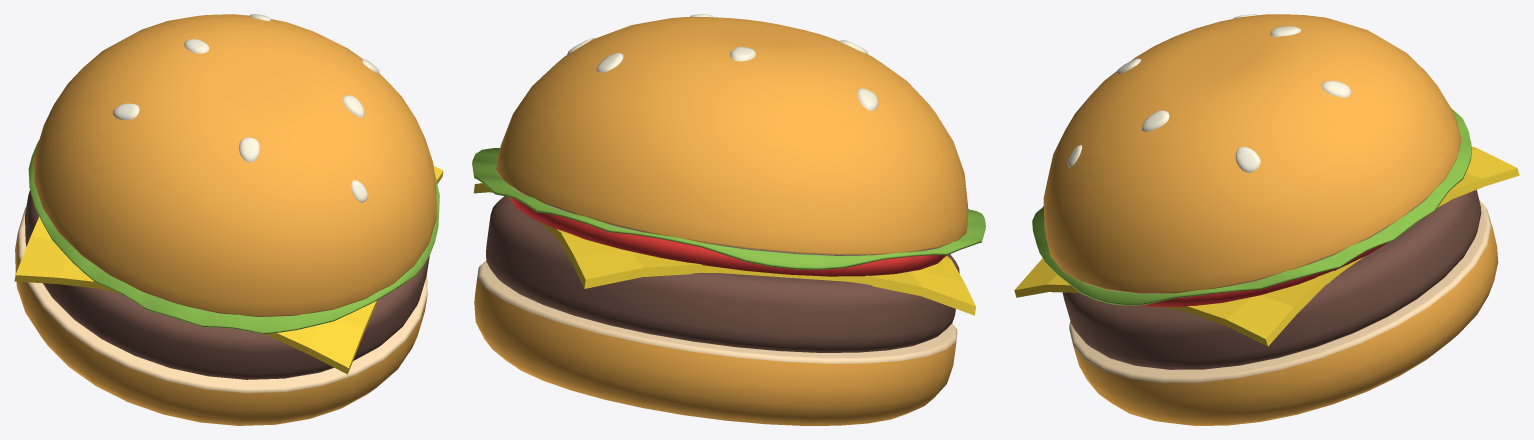
Rendered from hamburger.gltf.
3 renders of one model, left to right at view 1: azimuth 30°, elevation 25°; view 2: azimuth 150°, elevation 25°; view 3: azimuth 270°, elevation 25°, orthographic. The views are drawn at different scales.
Visible parts, largest first — view 1: Circle.2209; view 2: Circle.2209; view 3: Circle.2209.
Boxes of the visible parts, x1,y1,x2,y2 form: Circle.2209: (14, 14, 443, 425); Circle.2209: (472, 14, 985, 425); Circle.2209: (1014, 14, 1519, 425).
Size of the model in its own units: 2.38 by 1.71 by 2.31.
1 material, 1 textured.
